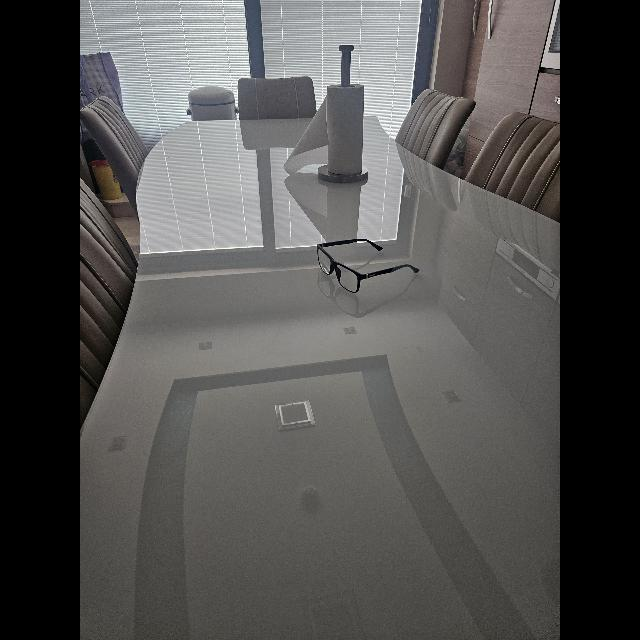glasses: (316, 238, 419, 294)
